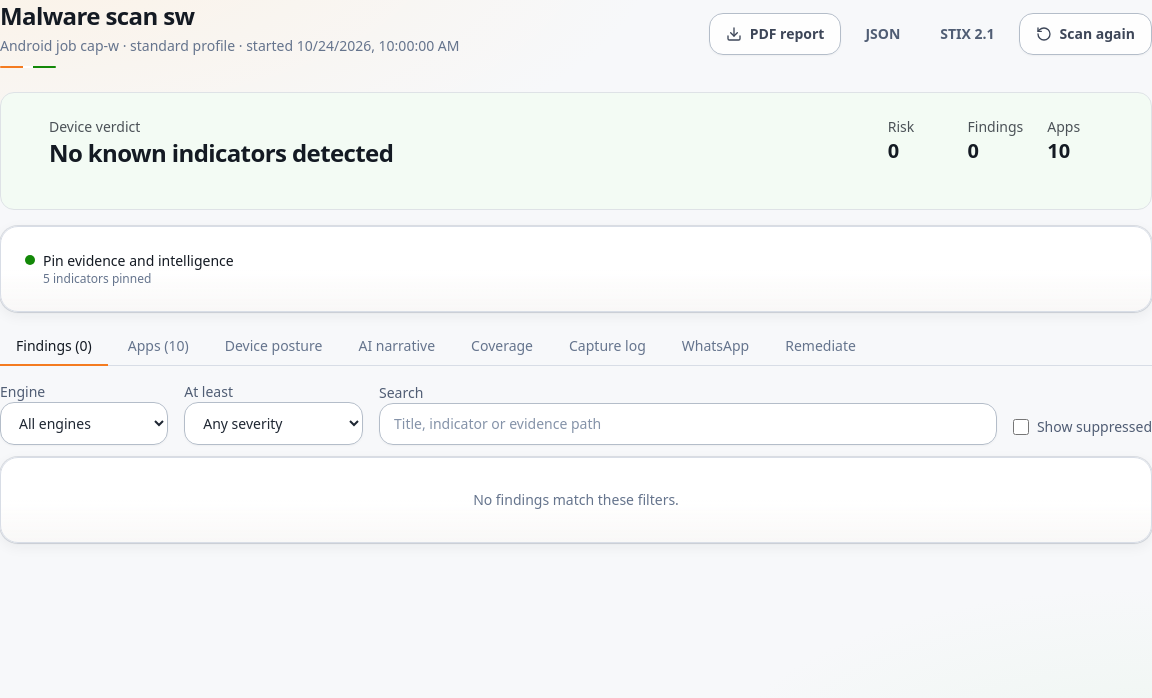
Test: WhatsApp viewer › decrypts a captured backup with a saved key and browses chats and messages
Click the tab "WhatsApp" at (716, 347), box [666, 328, 765, 366]
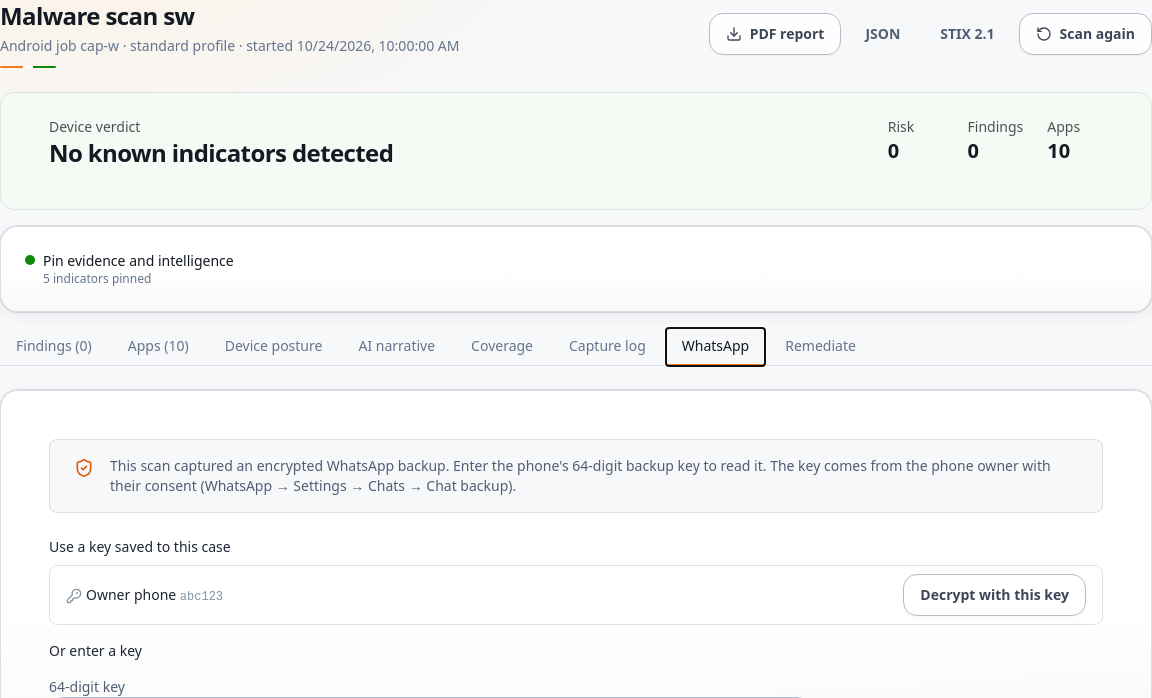
Expected: the text "This scan captured an encrypted WhatsApp backup." is shown, [110, 456, 1051, 495]
Click the button "Decrypt with this key" at (995, 595), box [903, 574, 1086, 616]
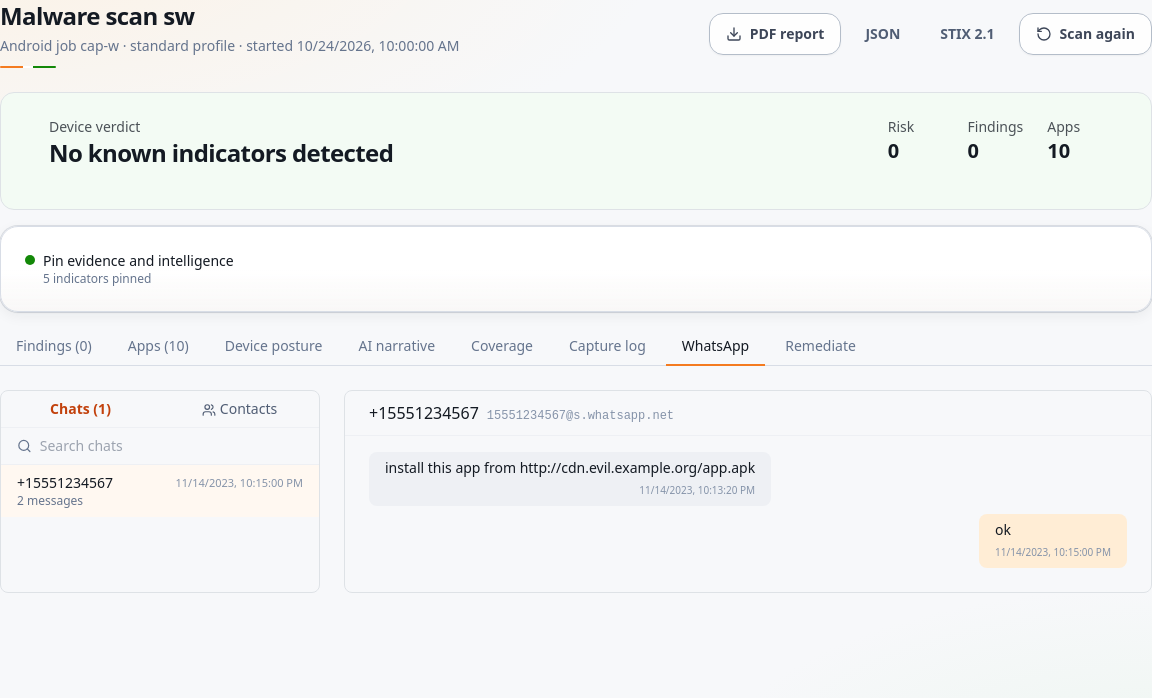
Expected: the 2nd text "+15551234567" is shown, [17, 473, 113, 493]
Expected: the text "install this app from http://cdn.evil.example.org/app.apk" is shown, [385, 458, 755, 477]
